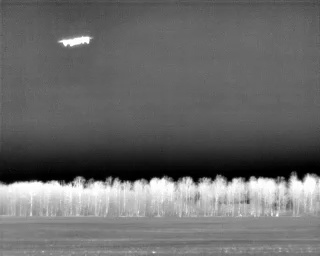DRONE: (54, 29, 97, 52)
